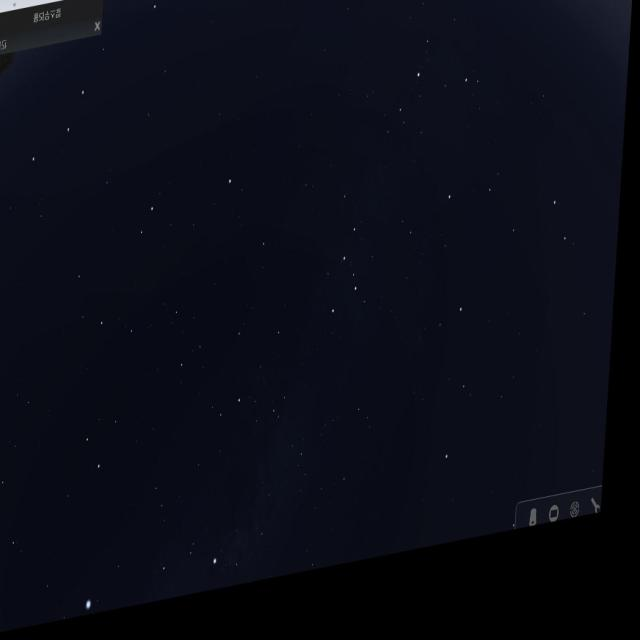cassiopeia: (327, 179, 380, 351)
